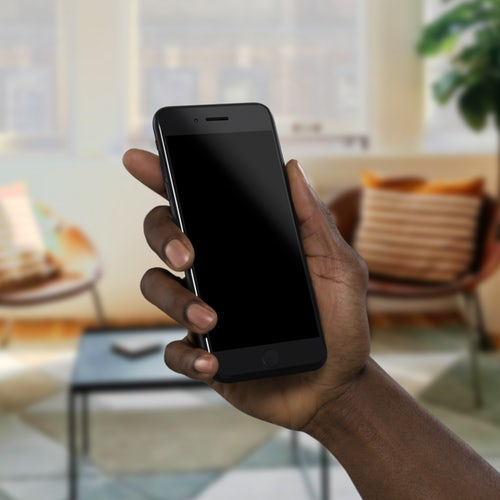phone: (151, 101, 333, 374)
